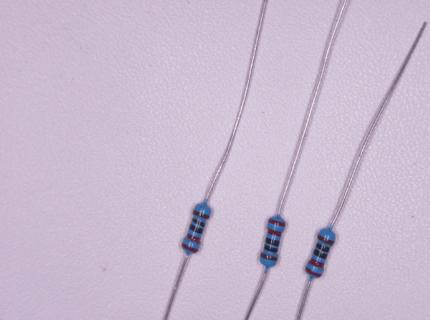Black band: (313, 248, 328, 259), (265, 237, 280, 247), (189, 224, 203, 234), (316, 242, 330, 252), (264, 244, 278, 253), (192, 218, 205, 227)
Brown band: (193, 209, 210, 220), (317, 234, 334, 245), (260, 253, 278, 261)
Red band: (305, 266, 322, 278), (182, 242, 199, 253), (308, 257, 325, 268), (267, 218, 286, 227), (186, 233, 201, 243), (267, 228, 283, 237)
